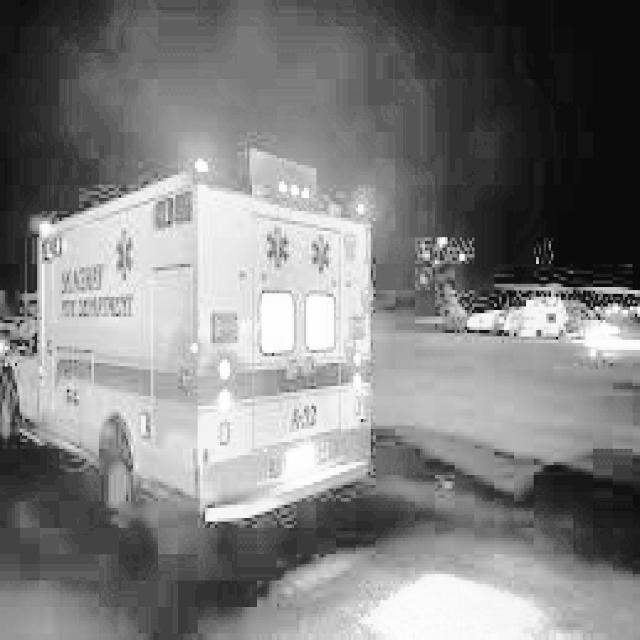Ambulance: (161, 304, 373, 446), (164, 137, 384, 242), (47, 233, 146, 325)
